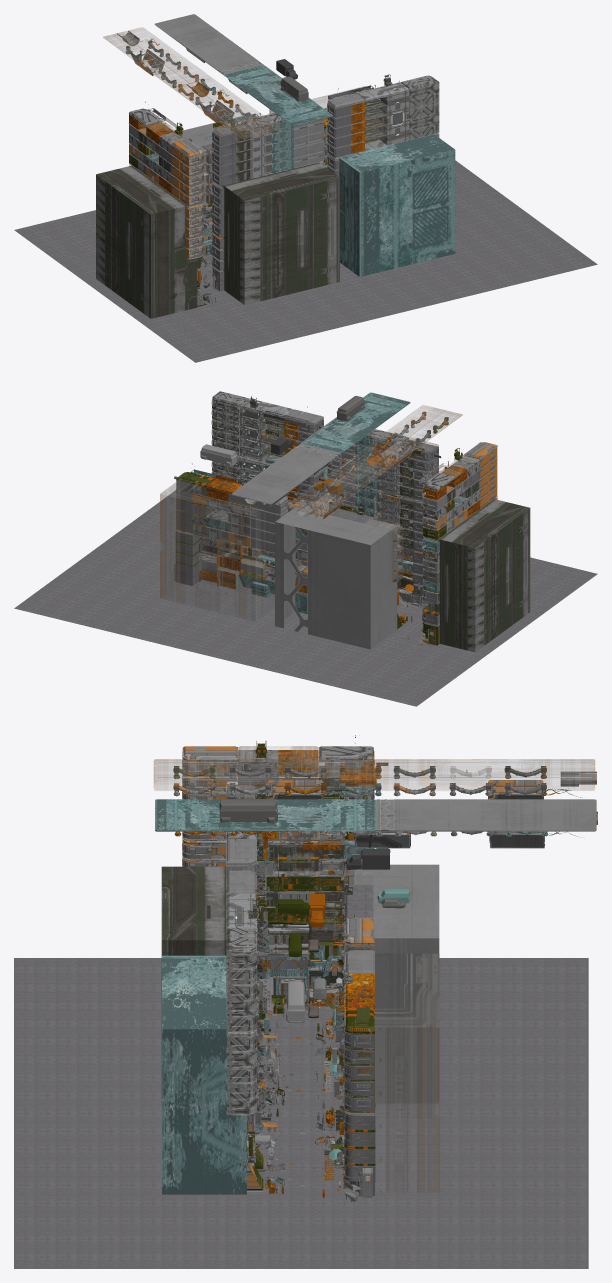
The model's file is SUP_cyberpunk_city.glb.
3 views of the same model, one above another, from view 1: azimuth 30°, elevation 25°; view 2: azimuth 150°, elevation 25°; view 3: azimuth 270°, elevation 25° (orthographic). The views are drawn at different scales.
Visible parts, largest first — view 1: SUP_cyberpunk_city; view 2: SUP_cyberpunk_city; view 3: SUP_cyberpunk_city.
Part boxes in pixels (bbox=[...]): SUP_cyberpunk_city: bbox=[14, 14, 597, 362]; SUP_cyberpunk_city: bbox=[14, 391, 597, 706]; SUP_cyberpunk_city: bbox=[14, 735, 597, 1268].
Size of the model in its own units: 17.34 by 7.54 by 13.75.
17 materials, 17 textured.
